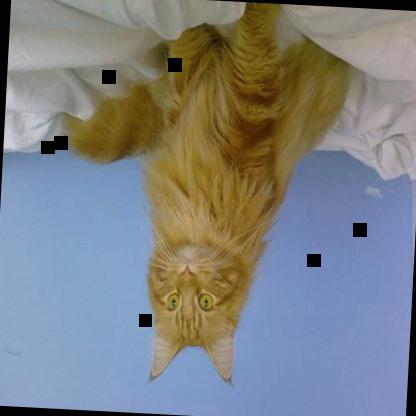cat: (53, 0, 348, 390)
